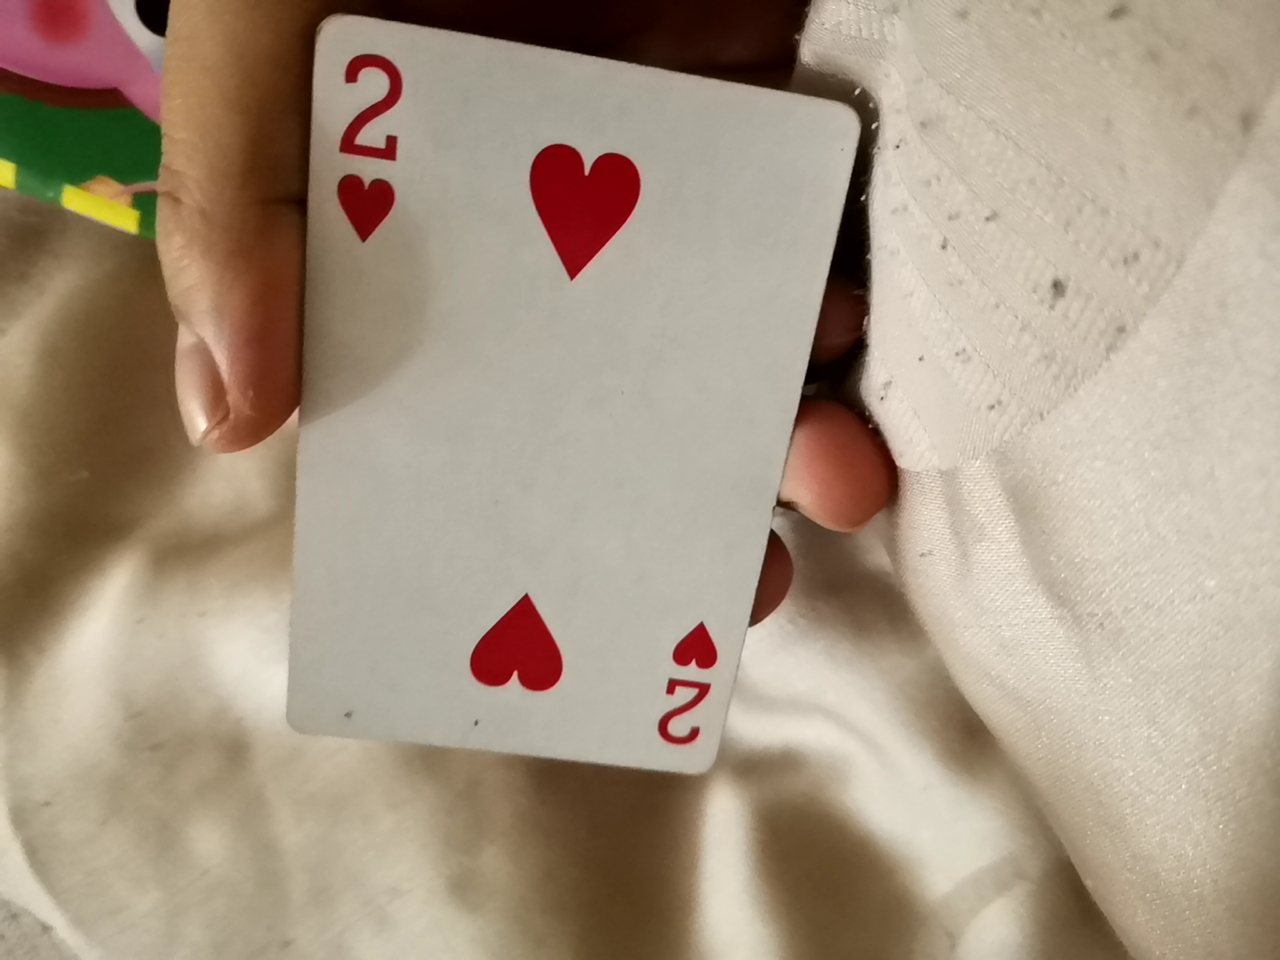hx 2: (259, 34, 852, 797)
